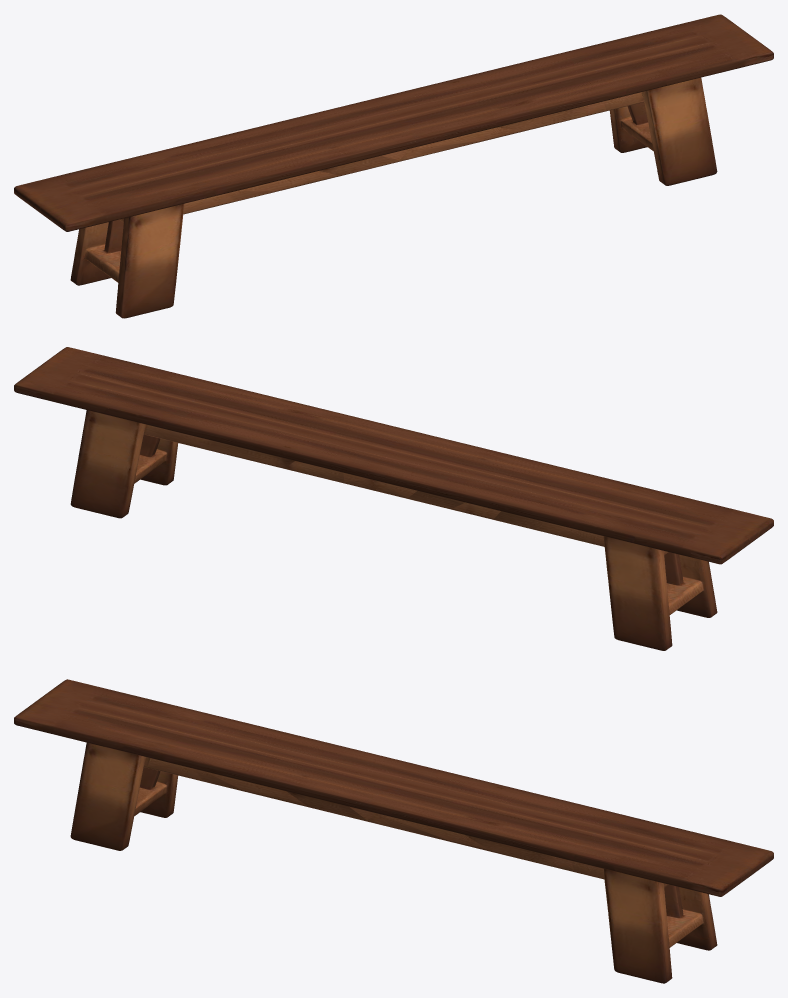
Rendered from ropewalk-laying-rig.glb.
The picture shows the model from 3 angles, top to bottom: view 1: azimuth 30°, elevation 25°; view 2: azimuth 150°, elevation 25°; view 3: azimuth 330°, elevation 25°; orthographic projection.
Parts seen in each view (by area): view 1: ropewalk-laying-rig; view 2: ropewalk-laying-rig; view 3: ropewalk-laying-rig.
Part boxes in pixels (box(x1,y1,x2,y2)): ropewalk-laying-rig: box(14, 14, 773, 318); ropewalk-laying-rig: box(14, 347, 773, 650); ropewalk-laying-rig: box(14, 679, 773, 983).
Bounding box in the file's own units: 7.8 × 1.15 × 1.
1 material, 1 textured.
